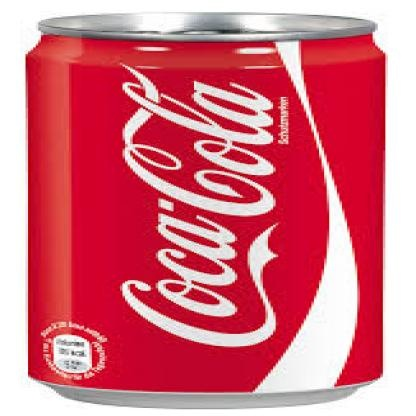trash: (27, 13, 384, 391)
